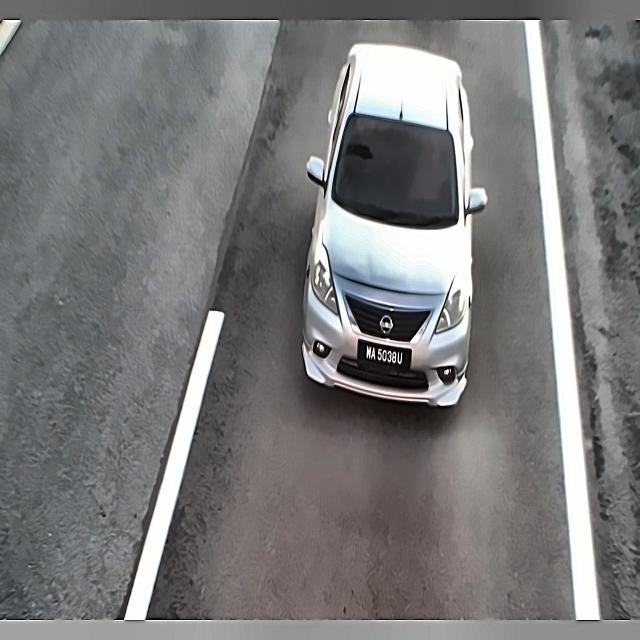car: (353, 332, 418, 381)
